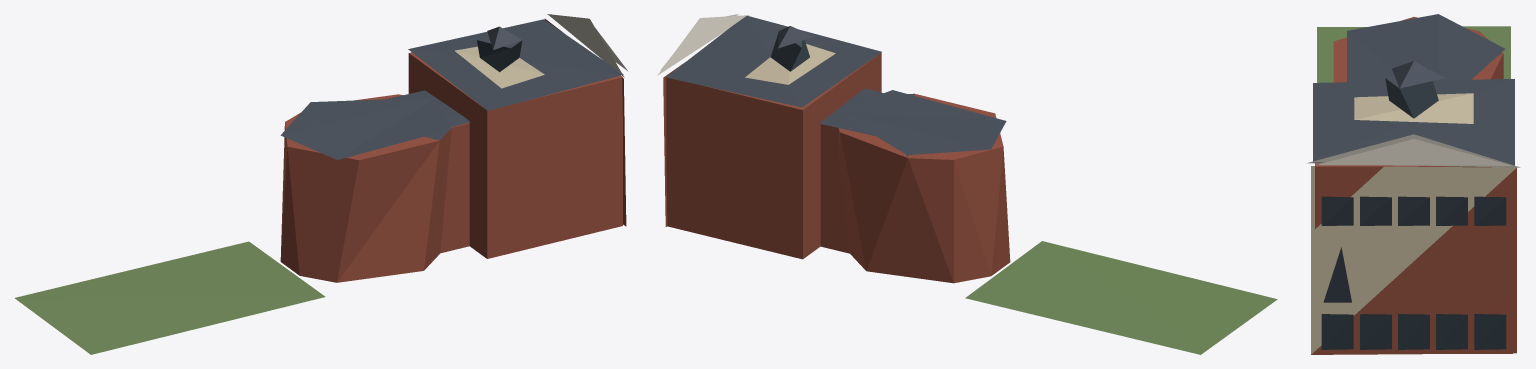
File: felix-meritis.lod2.glb
3 renders of one model, left to right at view 1: azimuth 30°, elevation 25°; view 2: azimuth 150°, elevation 25°; view 3: azimuth 270°, elevation 25°, orthographic. The views are drawn at different scales.
Parts seen in each view (by area): view 1: lod2; view 2: lod2; view 3: lod2.
Boxes of the visible parts, bbox=[...] form: lod2: bbox=[14, 14, 627, 354]; lod2: bbox=[657, 14, 1277, 354]; lod2: bbox=[1307, 14, 1520, 354].
Size of the model in its own units: 87.12 by 29.6 by 23.93.
